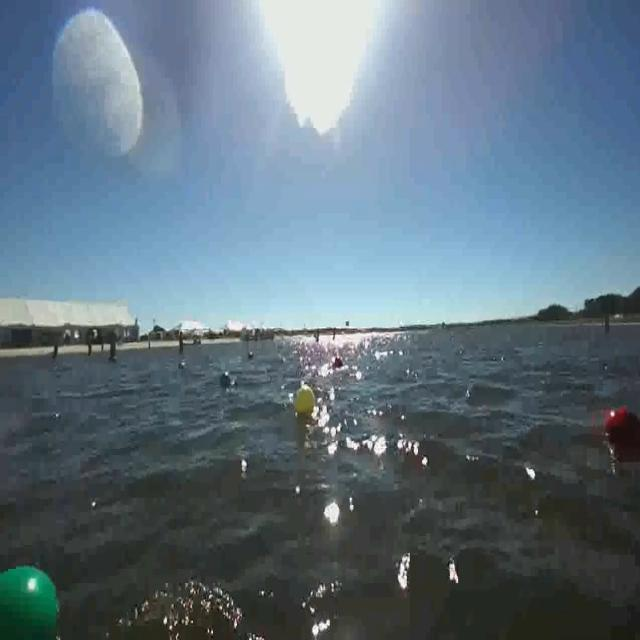green-buoy: (0, 559, 66, 640)
red-buoy: (599, 391, 640, 525)
yellow-buoy: (294, 386, 314, 418)
